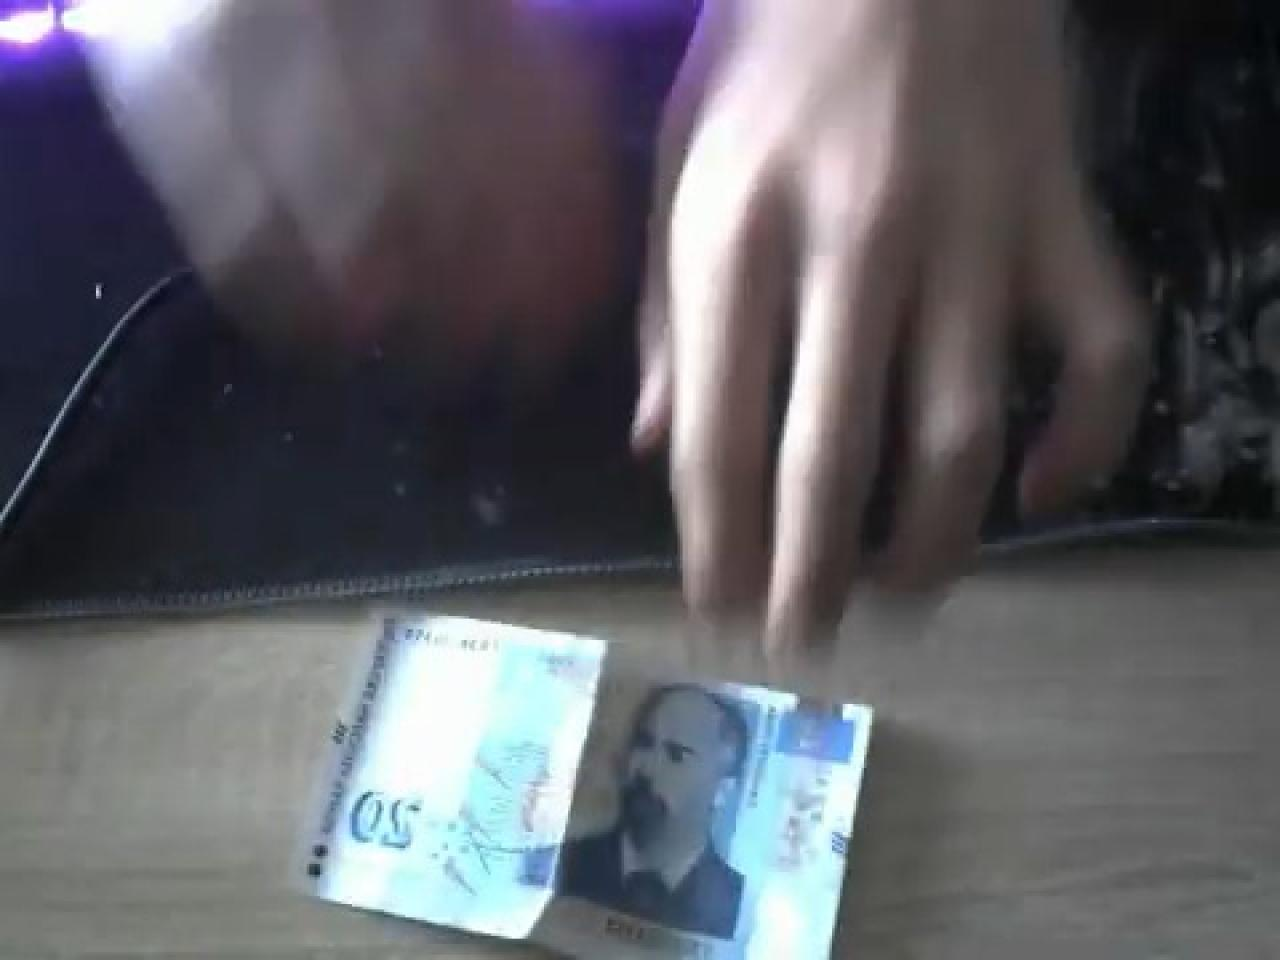20leva: (557, 678, 758, 942)
